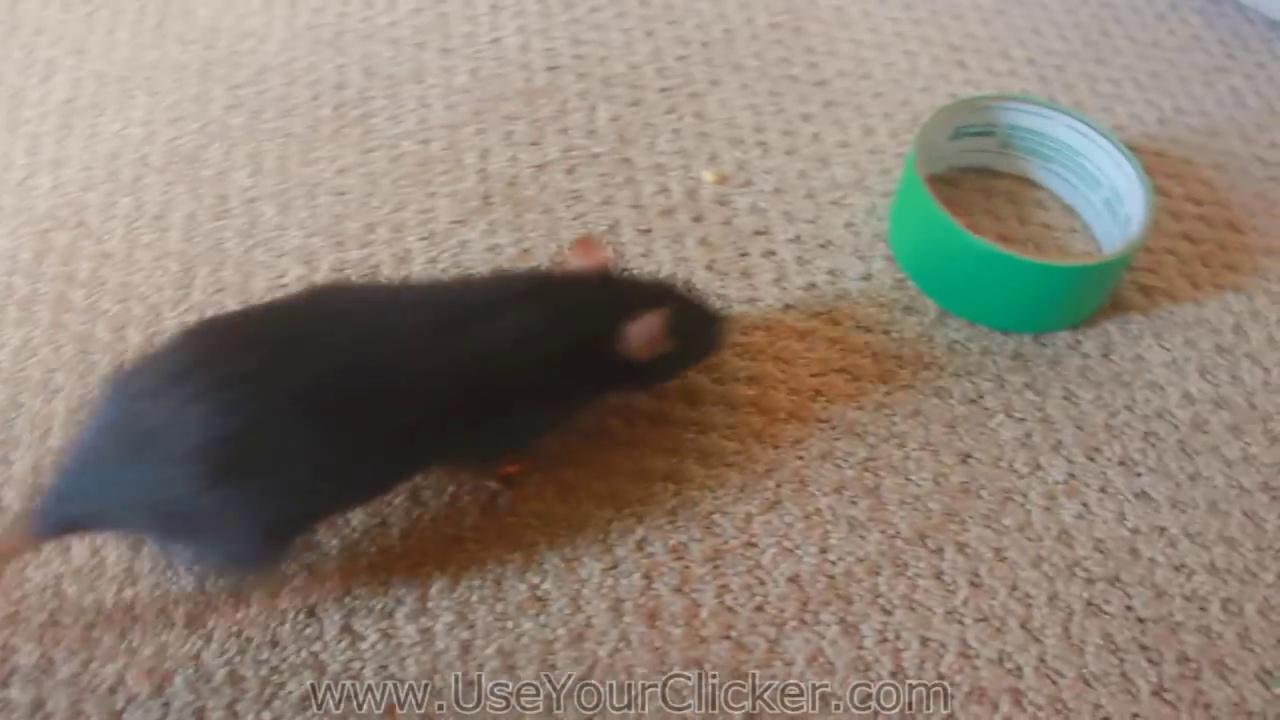rat: (0, 229, 729, 578)
